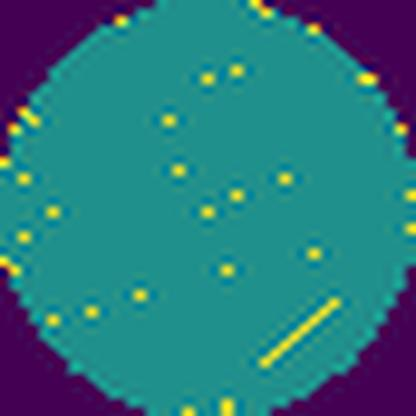Scratch: (254, 295, 346, 376)
